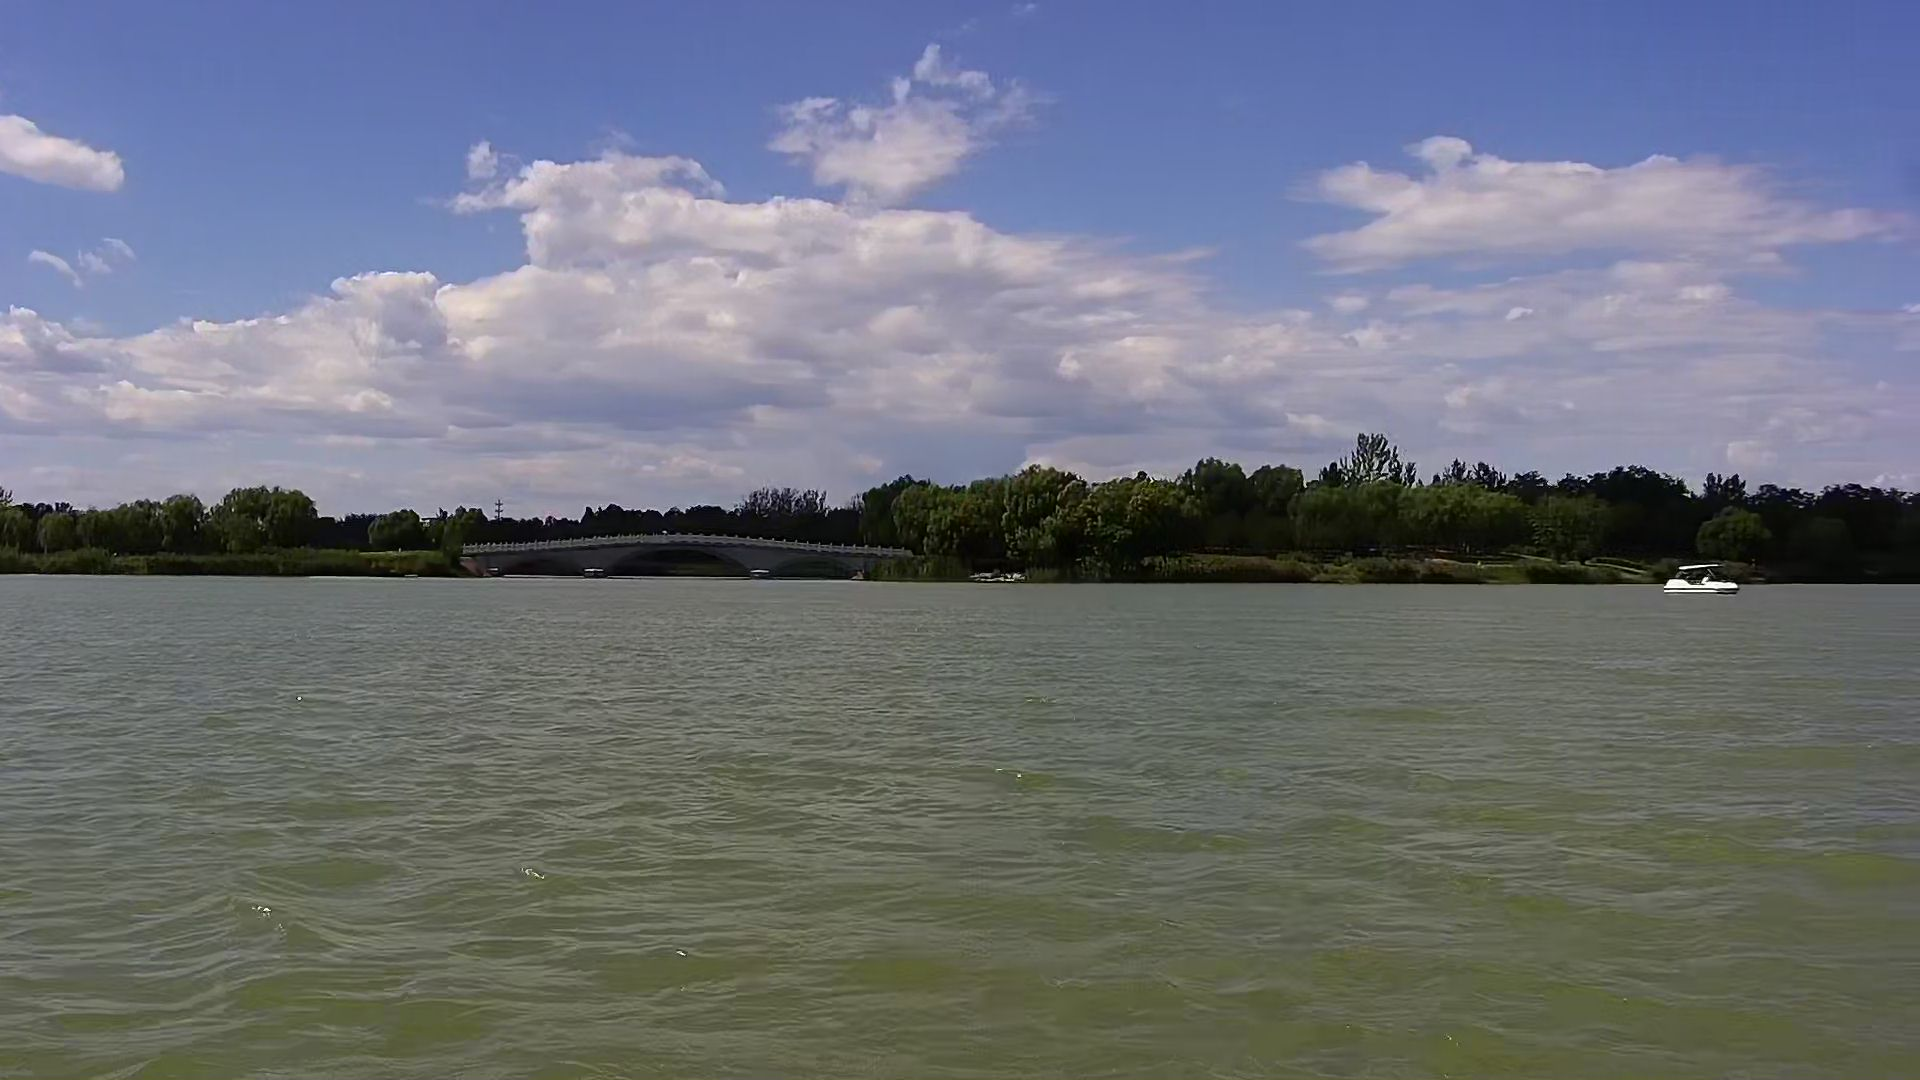boat: (1663, 556, 1742, 603)
bridge: (467, 529, 924, 580)
